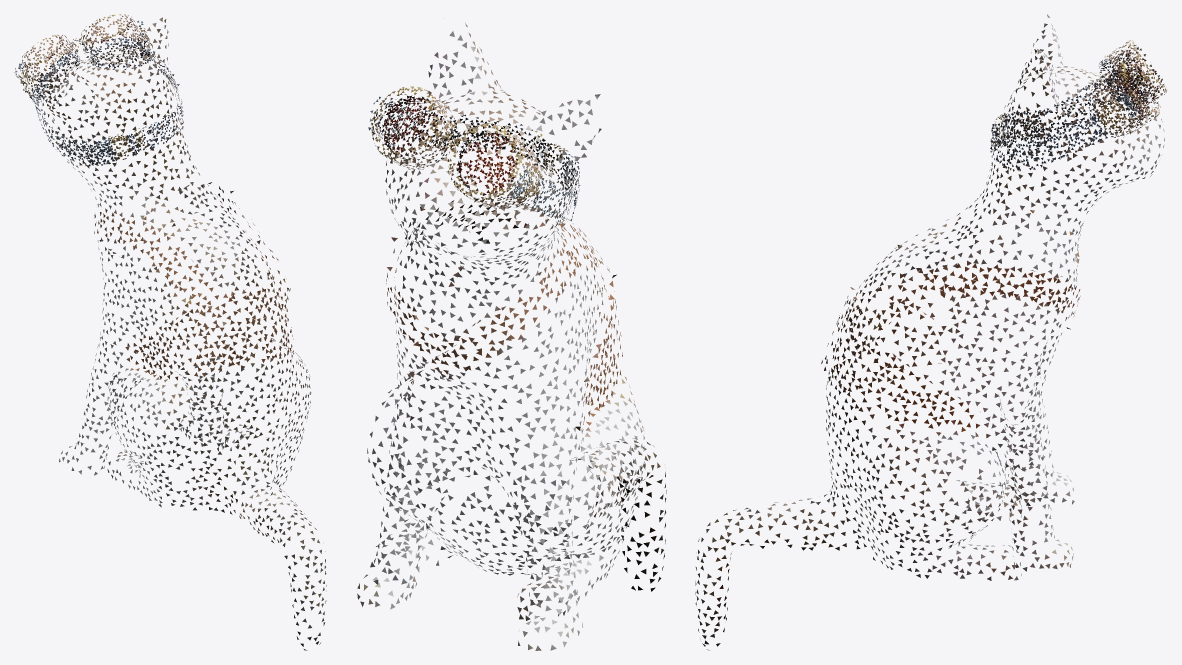
Rendered from cat.glb.
The picture shows the model from 3 angles, left to right: view 1: azimuth 30°, elevation 25°; view 2: azimuth 150°, elevation 25°; view 3: azimuth 270°, elevation 25°; orthographic projection. The views are drawn at different scales.
Visible parts, largest first — view 1: 01_cat, 02_goggles; view 2: 01_cat, 02_goggles; view 3: 01_cat, 02_goggles.
Part boxes in pixels (x1=…): 01_cat: x1=36, y1=17, x2=326, y2=650; 02_goggles: x1=14, y1=14, x2=183, y2=165; 01_cat: x1=357, y1=22, x2=666, y2=650; 02_goggles: x1=368, y1=86, x2=580, y2=222; 01_cat: x1=695, y1=14, x2=1164, y2=650; 02_goggles: x1=990, y1=40, x2=1166, y2=171.
Size of the model in its own units: 0.2533 by 0.6171 by 0.4383.
